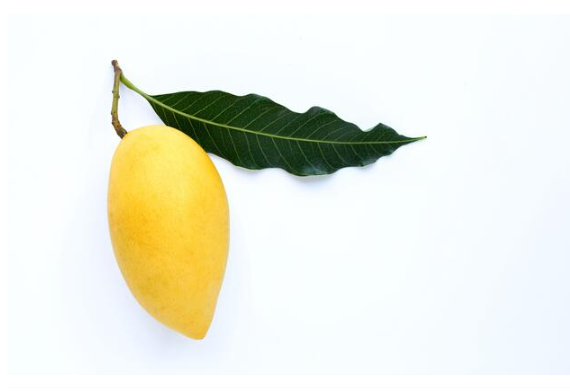mango: (109, 124, 232, 342)
